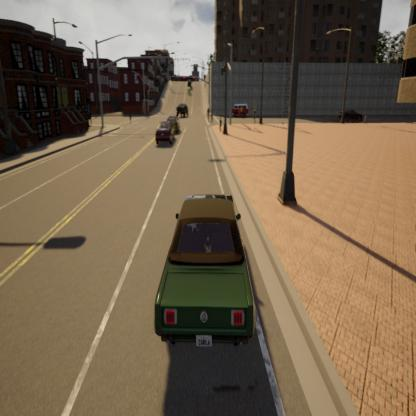Cars: (140, 185, 259, 358), (154, 118, 176, 150), (339, 106, 368, 127), (166, 110, 181, 133), (232, 101, 248, 118), (175, 101, 189, 119), (186, 86, 191, 98), (186, 78, 192, 87)
Pedestrian: (218, 113, 224, 135), (205, 104, 211, 123), (252, 103, 257, 123), (128, 105, 133, 124), (210, 107, 214, 124), (363, 111, 368, 124)
